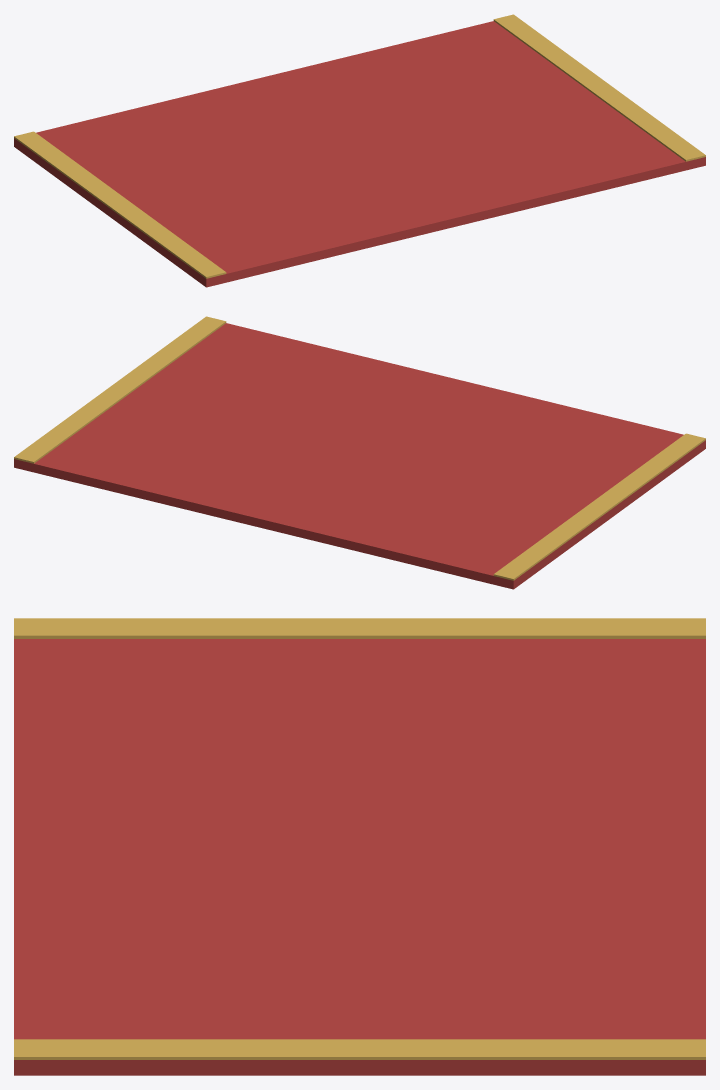
Rendered from ncb-runner-flat.glb.
The picture shows the model from 3 angles, top to bottom: view 1: azimuth 30°, elevation 25°; view 2: azimuth 150°, elevation 25°; view 3: azimuth 270°, elevation 25°; orthographic projection. The views are drawn at different scales.
Parts seen in each view (by area): view 1: box-prop; view 2: box-prop; view 3: box-prop.
Boxes of the visible parts, x1,y1,x2,y2 form: box-prop: [14, 14, 705, 287]; box-prop: [14, 316, 705, 589]; box-prop: [14, 618, 705, 1075].
Size of the model in its own units: 1.5 by 0.03 by 1.
